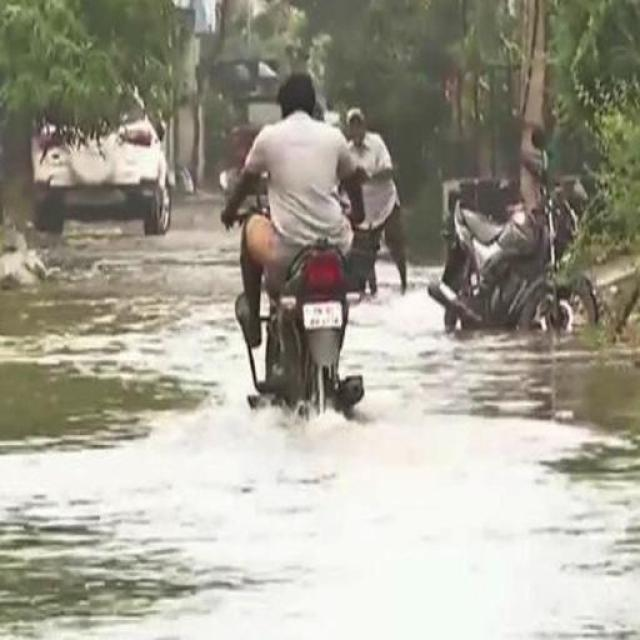puddle: (26, 422, 640, 640), (12, 297, 224, 622), (475, 351, 638, 515), (349, 302, 456, 503)
